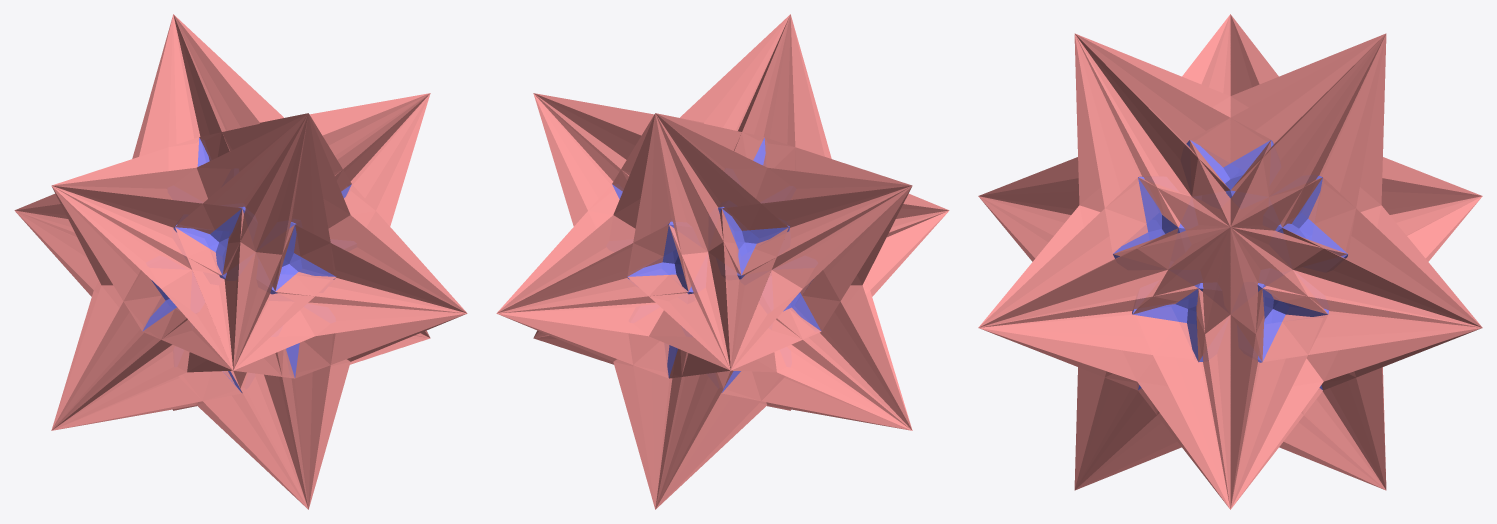
File: 48_Dodekaugmented_Gsd.obj
3 views of the same model, side by side, from view 1: azimuth 30°, elevation 25°; view 2: azimuth 150°, elevation 25°; view 3: azimuth 270°, elevation 25° (orthographic). The views are drawn at different scales.
Bounding box in the file's own units: 2.25 × 2.25 × 2.25.
